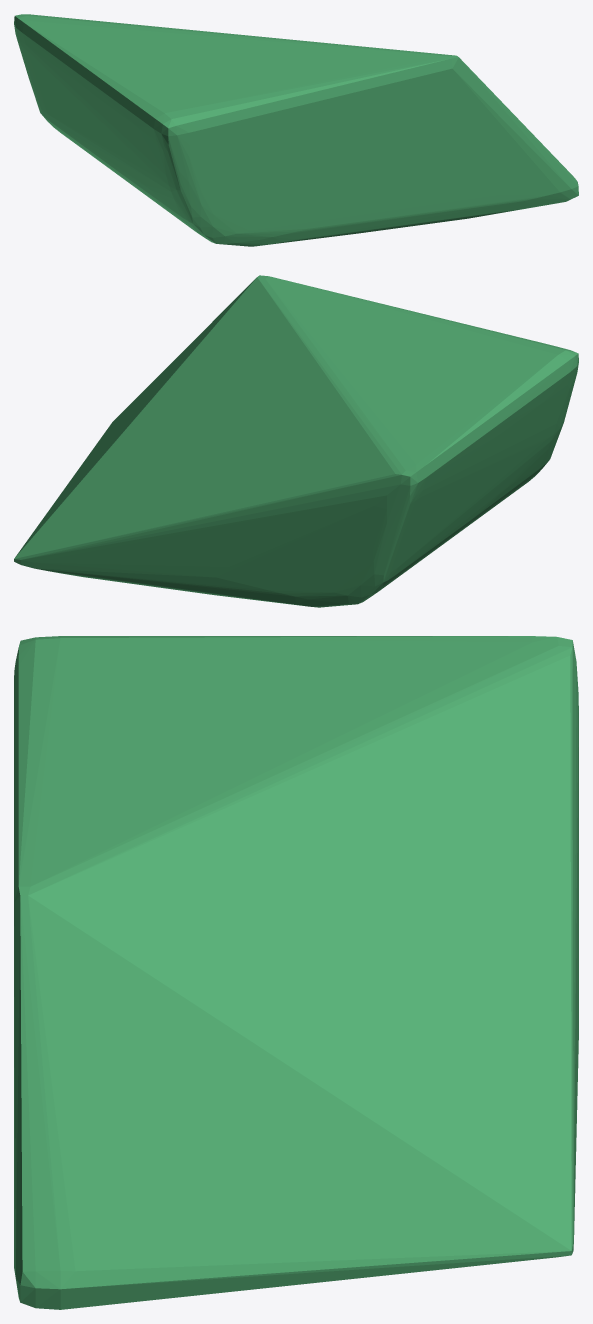
3 views of the same model, one above another, from view 1: azimuth 30°, elevation 25°; view 2: azimuth 150°, elevation 25°; view 3: azimuth 270°, elevation 25° (orthographic). The views are drawn at different scales.
Size of the model in its own units: 0.0717 by 0.0296 by 0.0466.
